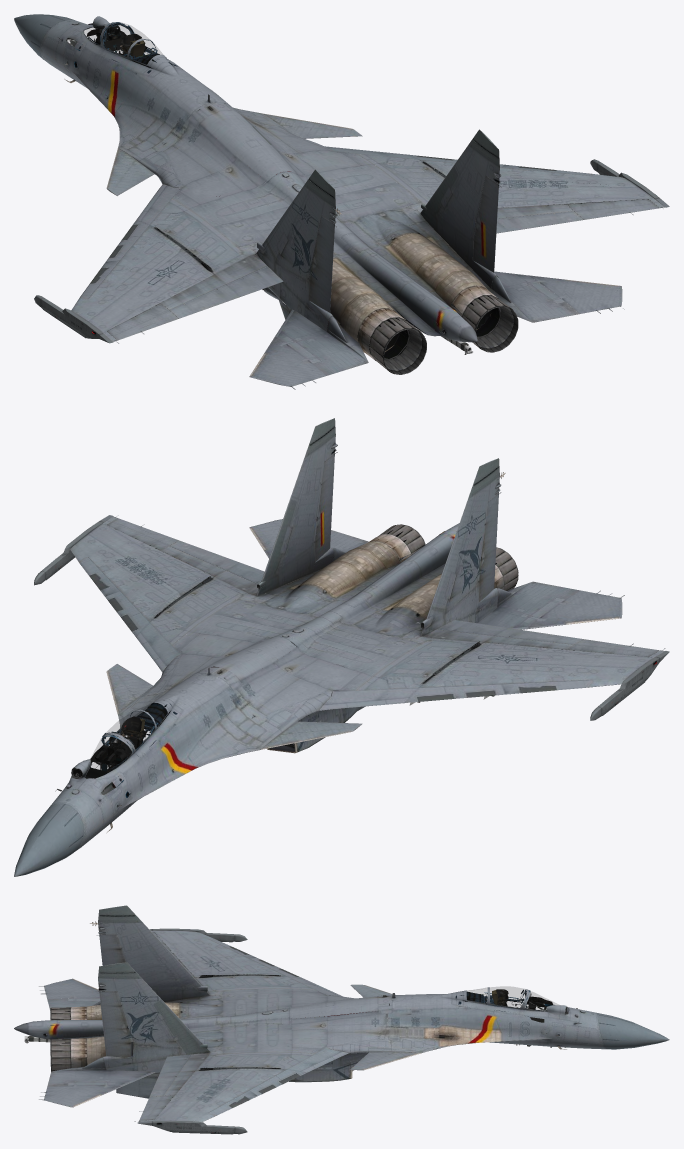
The picture shows the model from 3 angles, top to bottom: view 1: azimuth 30°, elevation 25°; view 2: azimuth 150°, elevation 25°; view 3: azimuth 270°, elevation 25°; orthographic projection. The views are drawn at different scales.
Visible parts, largest first — view 1: A_j15t; view 2: A_j15t; view 3: A_j15t.
Boxes of the visible parts, box(x1,y1,x2,y2) form: A_j15t: box(14, 14, 669, 389); A_j15t: box(14, 418, 669, 876); A_j15t: box(14, 905, 669, 1134).
Bounding box in the file's own units: 43.1 × 14.08 × 61.28.
12 materials, 8 textured.
